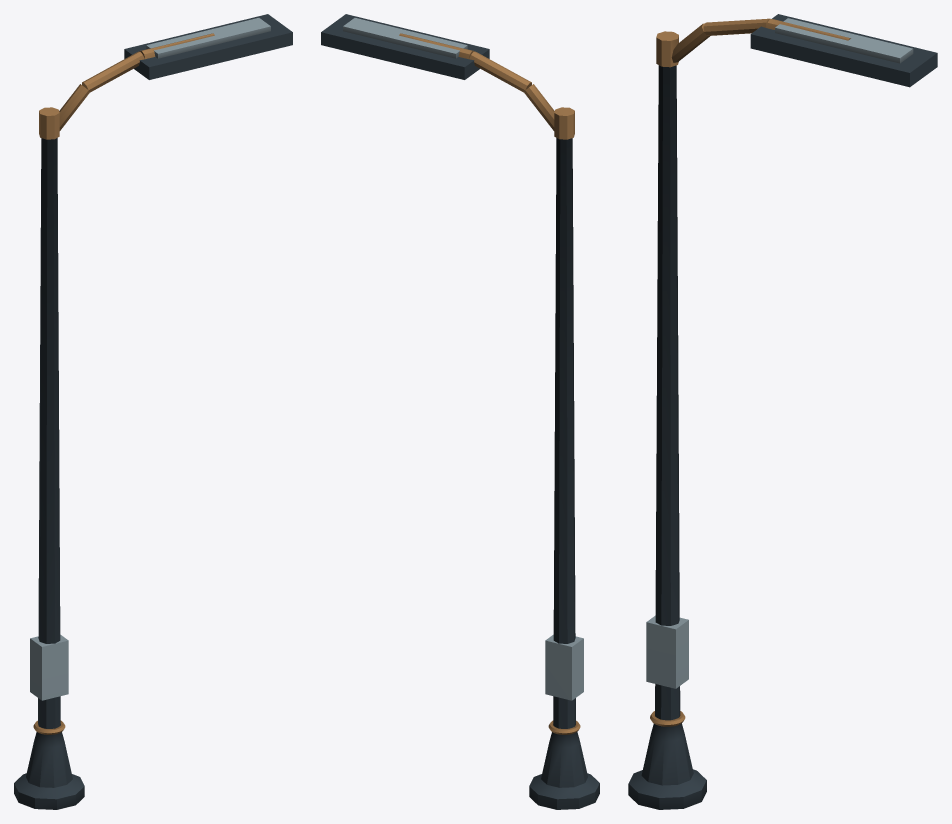
File: street-lamp.lod1.glb
3 renders of one model, left to right at view 1: azimuth 30°, elevation 25°; view 2: azimuth 150°, elevation 25°; view 3: azimuth 330°, elevation 25°, orthographic. The views are drawn at different scales.
Visible parts, largest first — view 1: structure; view 2: structure; view 3: structure.
Part boxes in pixels (<box>): structure: <box>14,14,292,809</box>; structure: <box>321,14,599,809</box>; structure: <box>628,14,937,809</box>.
Size of the model in its own units: 2.55 by 6.71 by 0.5705.
